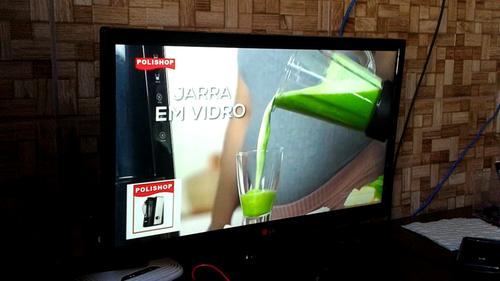Polishop #1: (125, 178, 182, 239)
